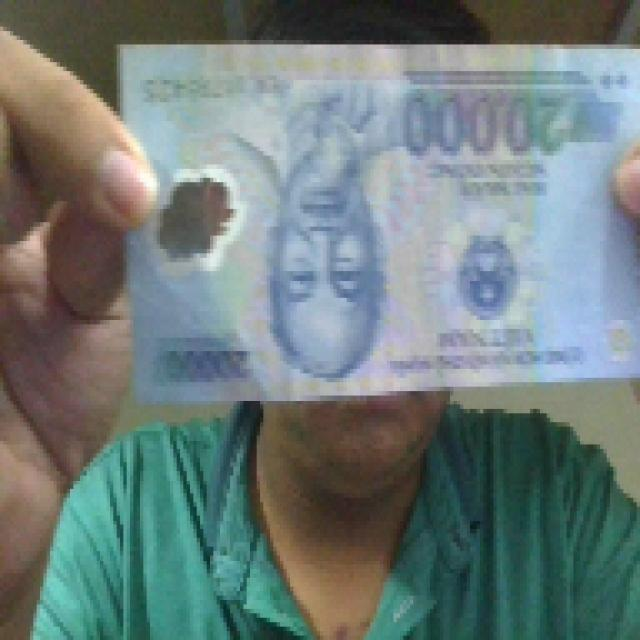20 000 VND: (110, 35, 637, 409)
